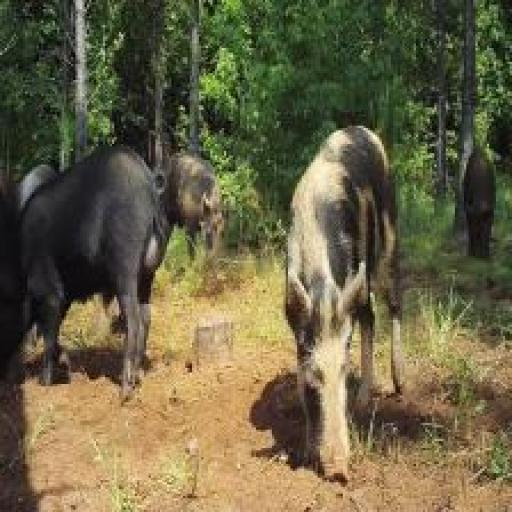Pig: (283, 121, 406, 482), (2, 146, 167, 397), (160, 151, 227, 271)
